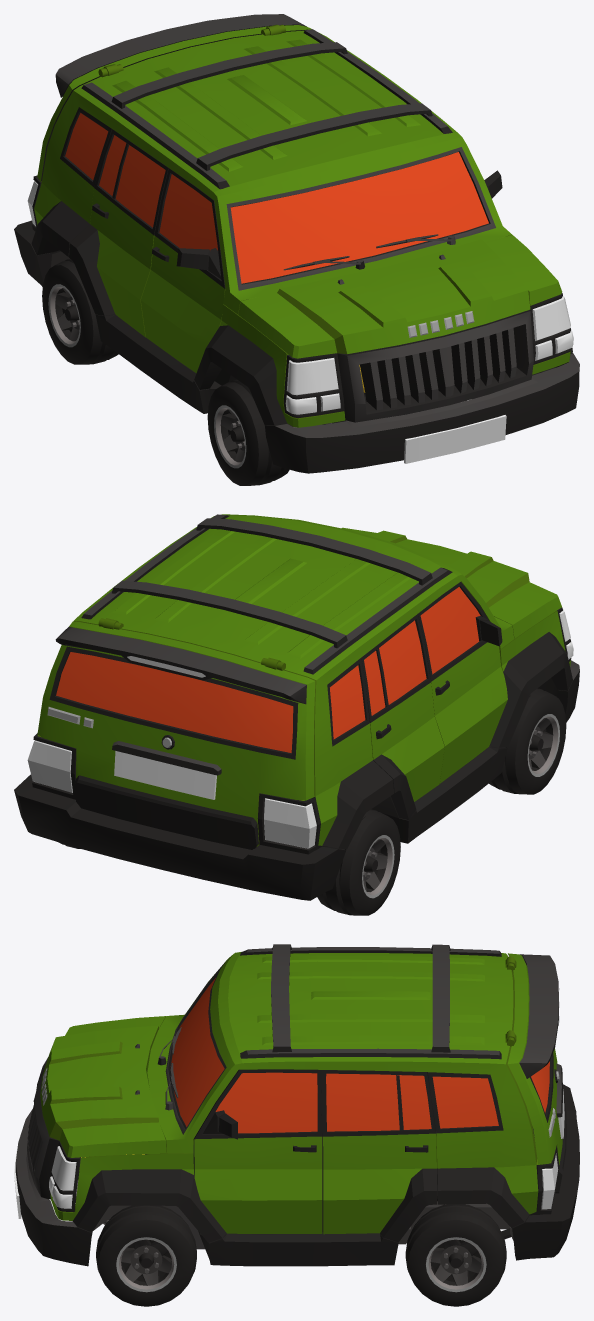
File: car5.fbx
3 renders of one model, top to bottom at view 1: azimuth 30°, elevation 25°; view 2: azimuth 150°, elevation 25°; view 3: azimuth 270°, elevation 25°, orthographic. The views are drawn at different scales.
Visible parts, largest first — view 1: Body.005, Bonet.004, Bumper_F.005, Grill_F.003, Doors_RR.002, Doors_FR.003, Fender_FR.005, BootLid.001, Wheel_FR.005, Wheel_RR.005, Headlight_FR.003, Headlight_FL.003 (+2 smaller); view 2: Body.005, BootLid.001, Bumper_R.005, Doors_FR.003, Doors_RR.002, Bonet.004, Wheel_RR.005, Fender_FR.005, Wheel_FR.005, Light_RR, Light_RL, Bumper_F.005 (+1 smaller); view 3: Body.005, Doors_FL.003, Doors_RL.002, Bonet.004, BootLid.001, Wheel_RL.005, Wheel_FL.005, Fender_FL.005, Bumper_F.005, Bumper_R.005, Grill_F.003, Headlight_FL.003 (+1 smaller).
Part boxes in pixels (x1,y1,x2,y2): Body.005: (31, 24, 512, 424); Bonet.004: (238, 235, 562, 358); Bumper_F.005: (265, 353, 579, 473); Grill_F.003: (337, 310, 533, 422); Doors_RR.002: (69, 129, 168, 337); Doors_FR.003: (140, 168, 225, 373); Fender_FR.005: (194, 304, 345, 427); BootLid.001: (37, 14, 311, 181); Wheel_FR.005: (207, 379, 292, 485); Wheel_RR.005: (42, 259, 118, 364); Headlight_FR.003: (283, 353, 344, 418); Headlight_FL.003: (530, 293, 573, 364); Body.005: (37, 514, 514, 850); BootLid.001: (37, 618, 315, 849); Bumper_R.005: (14, 774, 346, 900); Doors_FR.003: (418, 582, 507, 783); Doors_RR.002: (361, 614, 444, 820); Bonet.004: (342, 527, 561, 638); Wheel_RR.005: (317, 809, 400, 915); Fender_FR.005: (489, 611, 572, 747); Wheel_FR.005: (489, 688, 566, 794); Light_RR: (257, 793, 320, 854); Light_RL: (27, 733, 76, 799); Bumper_F.005: (538, 660, 579, 722); Body.005: (72, 944, 551, 1266); Doors_FL.003: (194, 1069, 322, 1233); Doors_RL.002: (322, 1070, 436, 1242); Bonet.004: (40, 1016, 167, 1157); BootLid.001: (505, 953, 566, 1193); Wheel_RL.005: (405, 1204, 506, 1306); Wheel_FL.005: (96, 1205, 196, 1306); Fender_FL.005: (50, 1153, 226, 1242); Bumper_F.005: (14, 1109, 92, 1266); Bumper_R.005: (512, 1084, 579, 1260); Grill_F.003: (27, 1057, 59, 1199); Headlight_FL.003: (49, 1141, 80, 1212).
Bounding box in the file's own units: 129 × 102 × 208.
